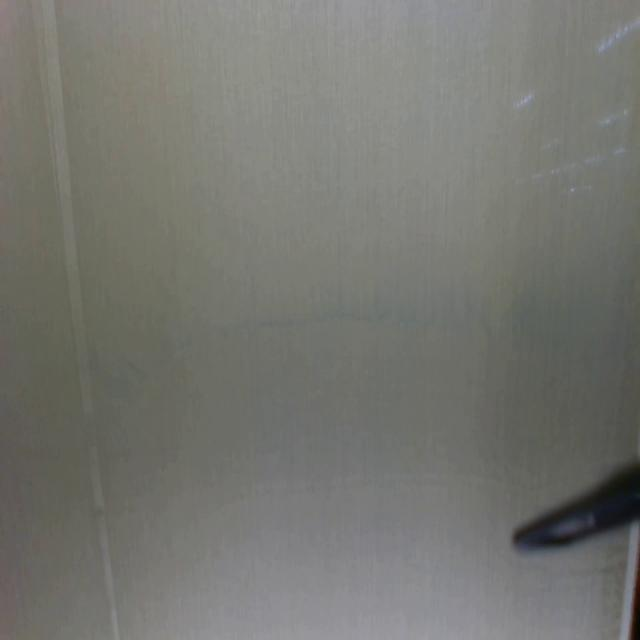color bleeding: (171, 275, 640, 354)
crease: (29, 0, 124, 639)
